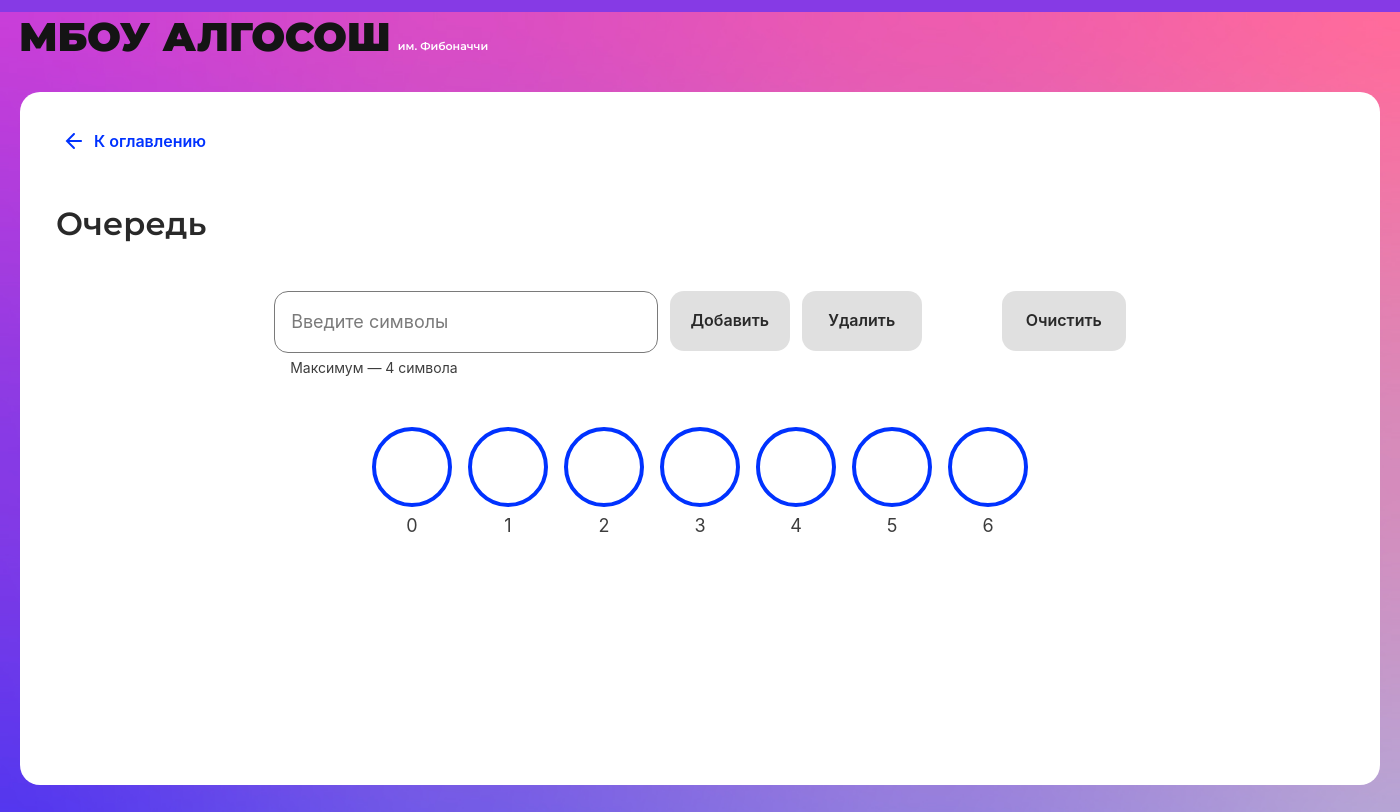
Scenario: queue page › add element button should be switch disabled state correctly depends on input value
Check: the button with id "add-btn" is disabled, box [670,291,790,351]
Type "1" into the field with placeholder "Введите символы".
click(466, 322); type("1")  # box [274,291,658,353]
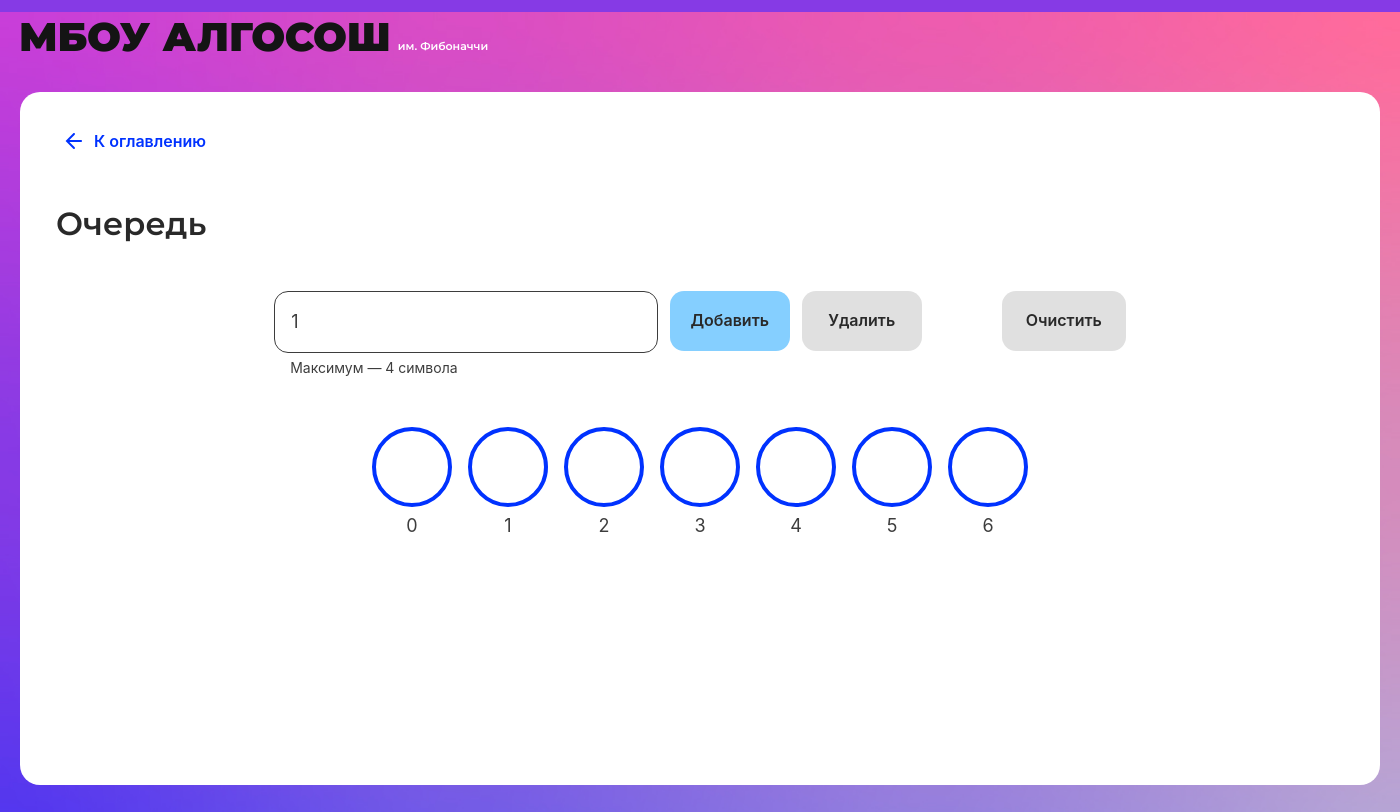
Check: the button with id "add-btn" is enabled, box [670,291,790,351]
